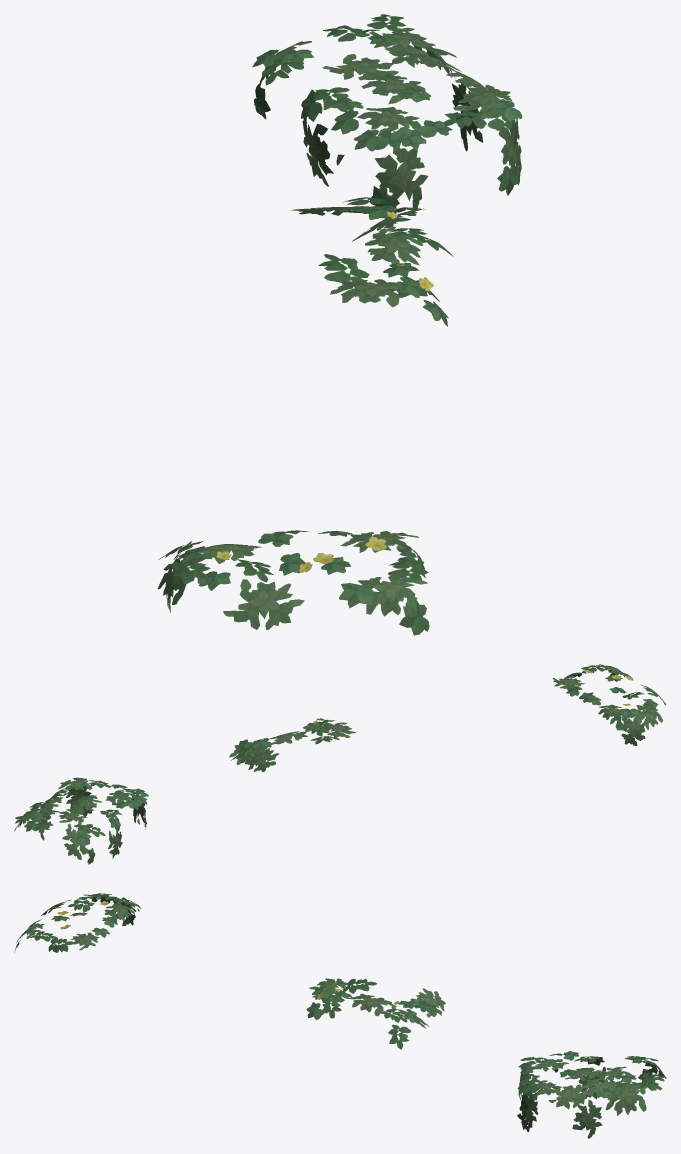
Rendered from pref_sm_beach_bk_pointmol_grassplant07b_lv1.fbx.
3 views of the same model, one above another, from view 1: azimuth 30°, elevation 25°; view 2: azimuth 150°, elevation 25°; view 3: azimuth 270°, elevation 25° (orthographic). The views are drawn at different scales.
Visible parts, largest first — view 1: pref_sm_beach_bk_pointmol_grassplant07b_lv1; view 2: pref_sm_beach_bk_pointmol_grassplant07b_lv1; view 3: pref_sm_beach_bk_pointmol_grassplant07b_lv1.
Boxes of the visible parts, <box> form: pref_sm_beach_bk_pointmol_grassplant07b_lv1: <box>158,14,522,635</box>; pref_sm_beach_bk_pointmol_grassplant07b_lv1: <box>14,664,666,864</box>; pref_sm_beach_bk_pointmol_grassplant07b_lv1: <box>14,893,666,1138</box>.
Size of the model in its own units: 12.63 by 2.16 by 17.51.
